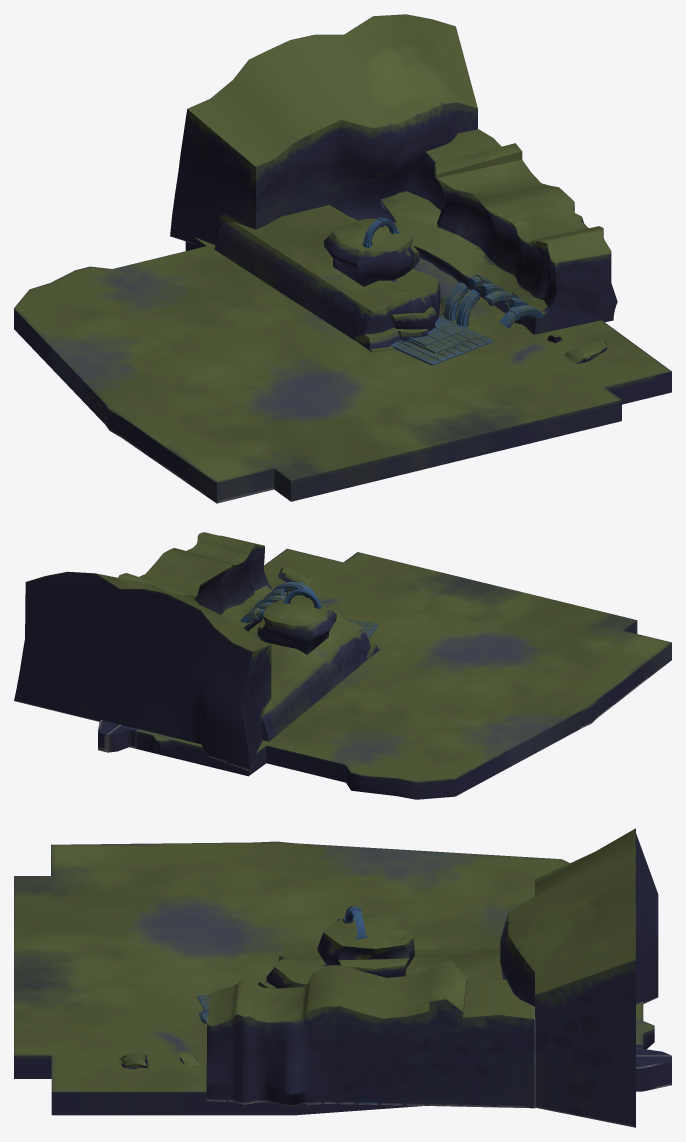
File: Final Risk Of rain 2 stage 2.0 (1).fbx
3 views of the same model, one above another, from view 1: azimuth 30°, elevation 25°; view 2: azimuth 150°, elevation 25°; view 3: azimuth 270°, elevation 25° (orthographic). The views are drawn at different scales.
Parts seen in each view (by area): view 1: front_rock; view 2: front_rock; view 3: front_rock.
Part boxes in pixels (x1,y1,x2,y2): front_rock: (14, 14, 671, 503); front_rock: (14, 532, 671, 799); front_rock: (14, 828, 671, 1127).
Size of the model in its own units: 245 by 90.98 by 240.
1 material, 1 textured.
